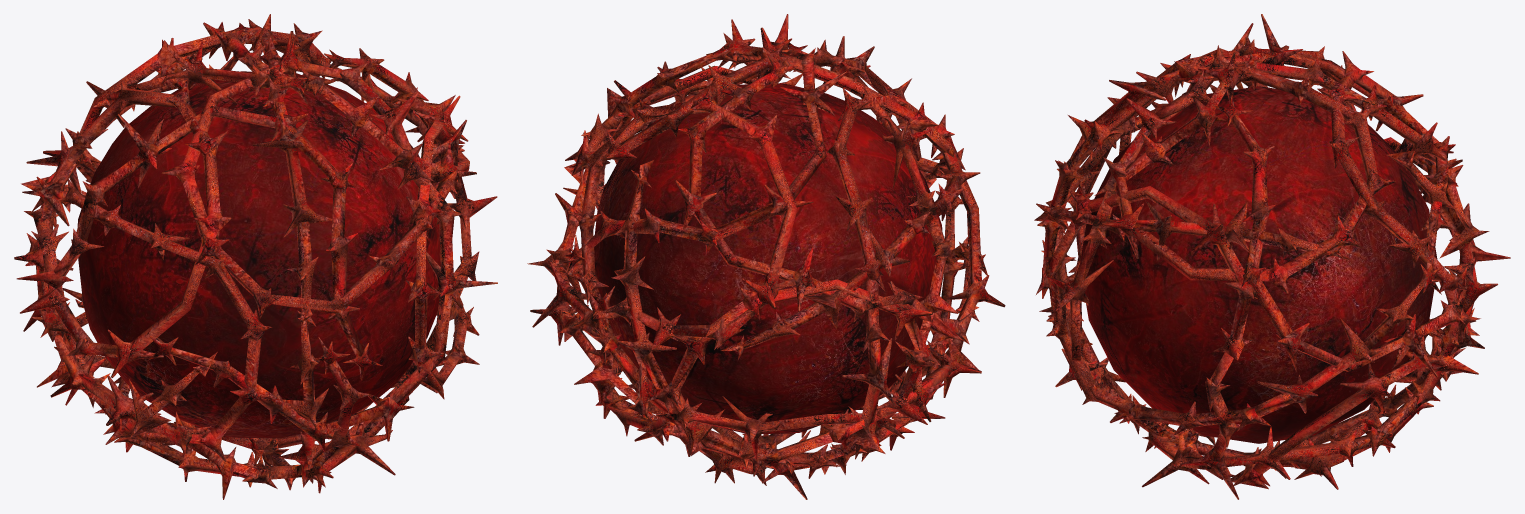
Rendered from BallSilent.fbx.
3 renders of one model, left to right at view 1: azimuth 30°, elevation 25°; view 2: azimuth 150°, elevation 25°; view 3: azimuth 270°, elevation 25°, orthographic. The views are drawn at different scales.
Visible parts, largest first — view 1: Cube.008; view 2: Cube.008; view 3: Cube.008.
Part boxes in pixels (bbox=[...]): Cube.008: bbox=[14, 14, 497, 499]; Cube.008: bbox=[527, 14, 1005, 499]; Cube.008: bbox=[1034, 14, 1510, 499].
Size of the model in its own units: 215 by 208 by 205.
